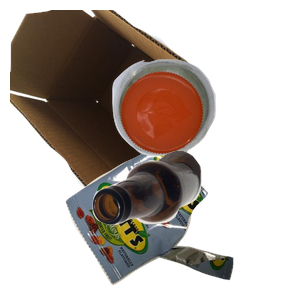cardboard: (10, 10, 218, 190)
glass: (90, 148, 300, 300)
plastic: (110, 57, 300, 205)
trash: (63, 137, 289, 300)
